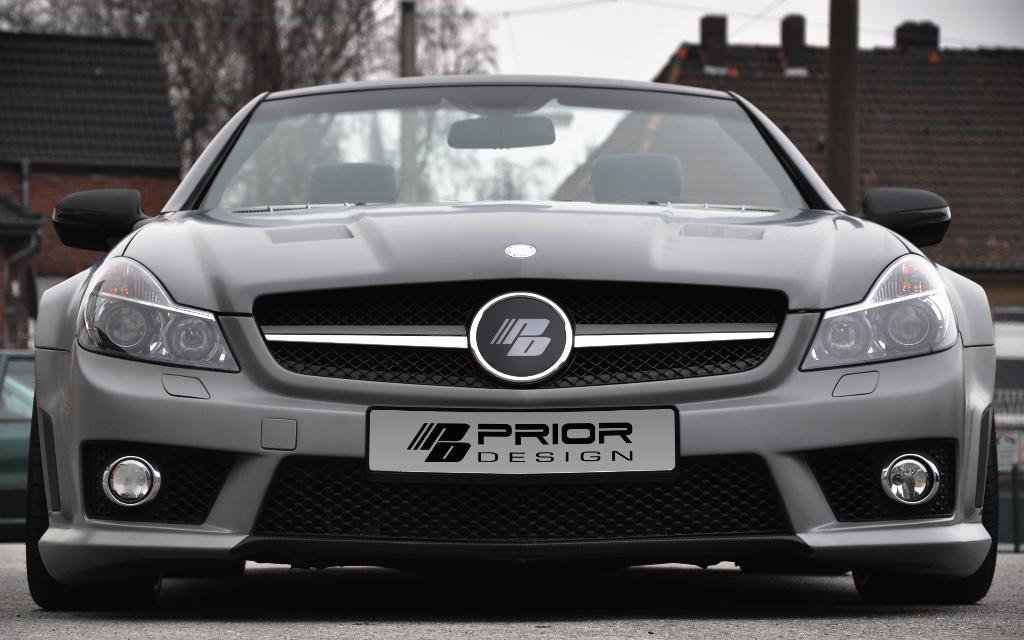Car: (19, 46, 977, 606)
